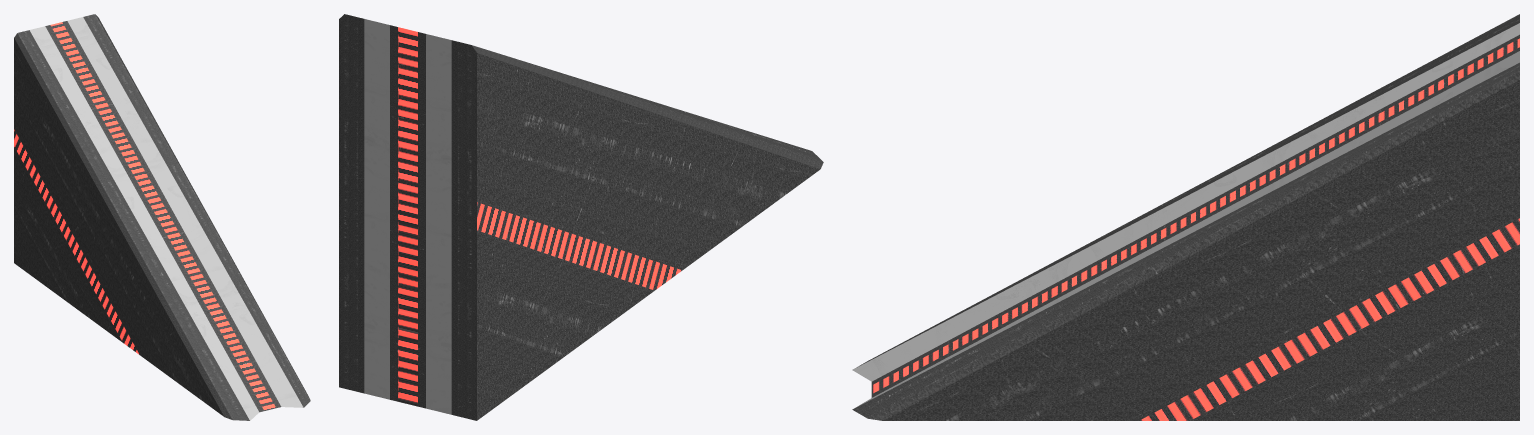
The model's file is 5,13,22 Ramp.fbx.
The picture shows the model from 3 angles, left to right: view 1: azimuth 30°, elevation 25°; view 2: azimuth 150°, elevation 25°; view 3: azimuth 270°, elevation 25°; orthographic projection. The views are drawn at different scales.
Parts seen in each view (by area): view 1: 5, 13,22; view 2: 5, 13,22; view 3: 5, 13,22.
Part boxes in pixels (left/top/right/bottom): 5, 13,22: left=14, top=14, right=310, bottom=420; 5, 13,22: left=339, top=14, right=823, bottom=420; 5, 13,22: left=852, top=14, right=1519, bottom=420.
Bounding box in the file's own units: 500 × 1300 × 2267.
